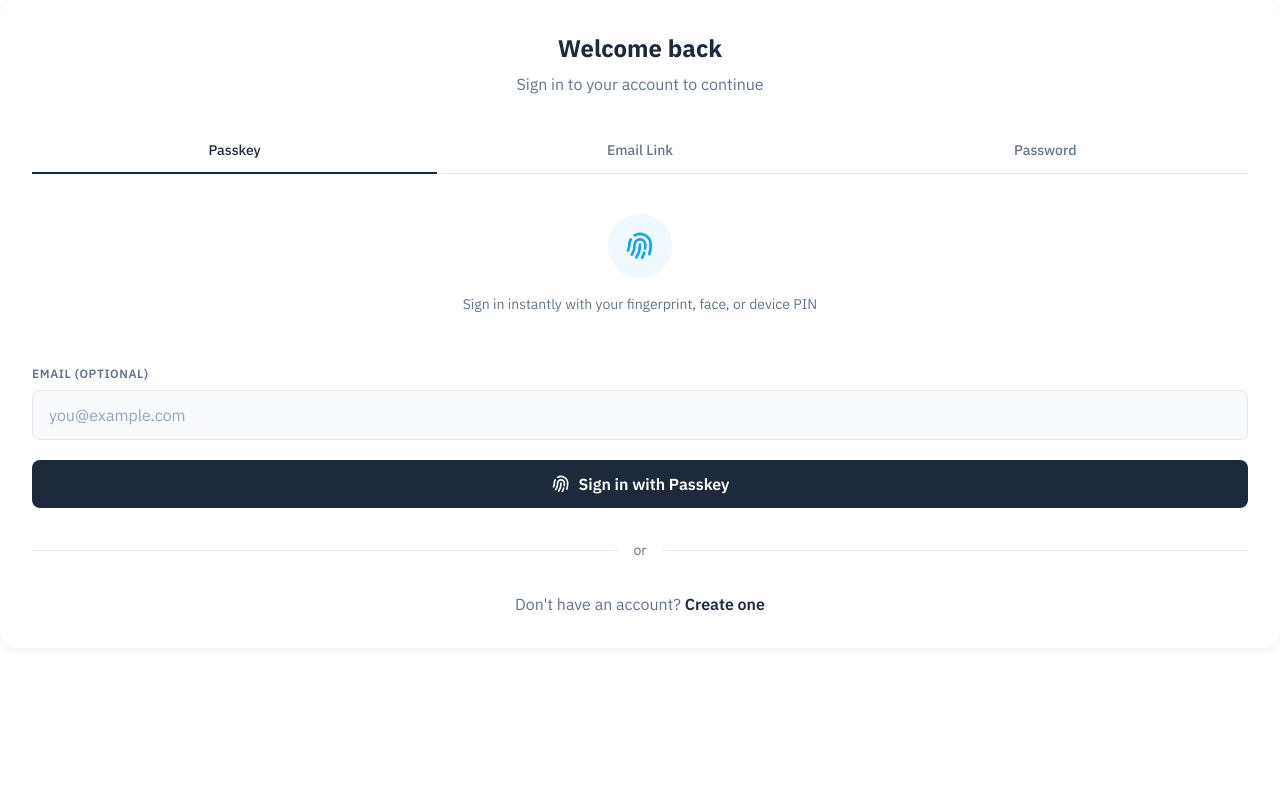
Scenario: LoginPage › magic link mode › should switch to magic link mode when tab is clicked
Click the button "Email Link" at {"x": 640, "y": 151}, box [437,128,843,174]
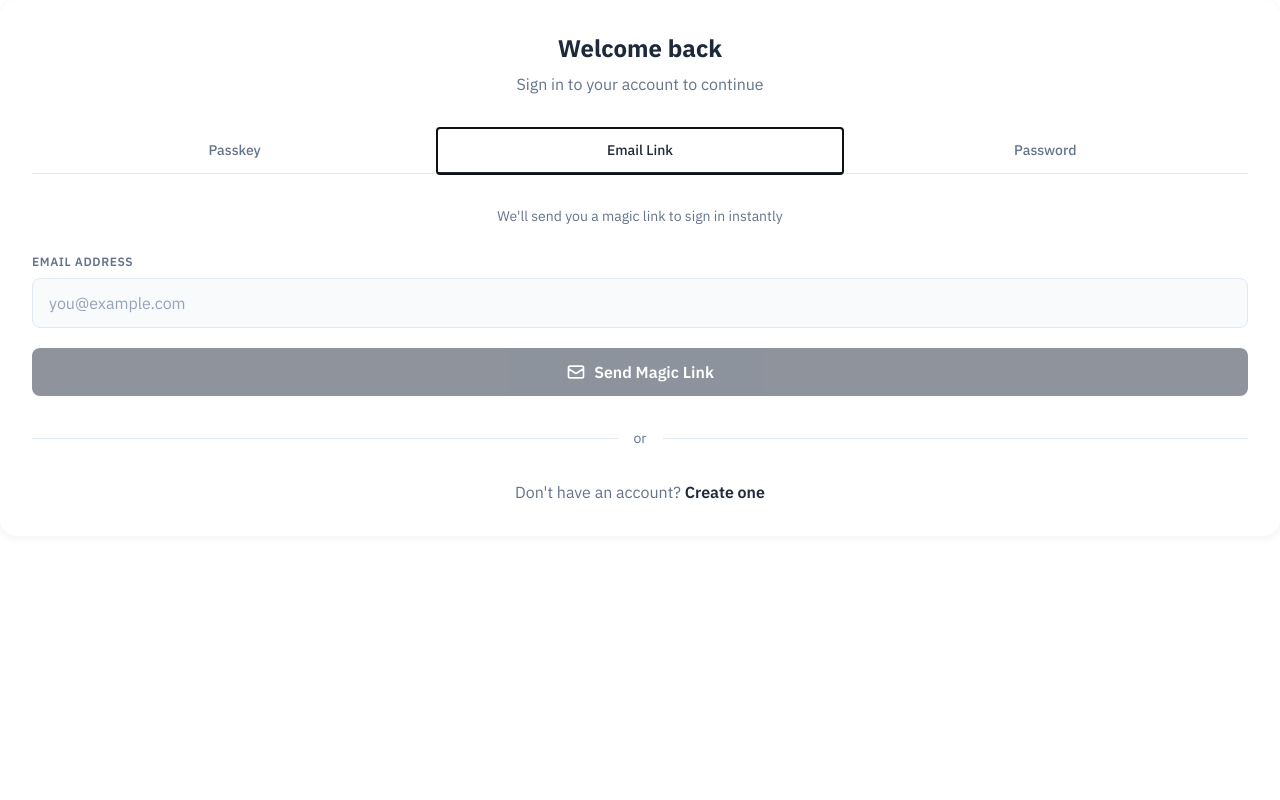
Result: the text "We'll send you a magic link to sign in instantly" is shown at [497,207,783,225]
Result: the button "Send Magic Link" is shown at [32,348,1248,396]
